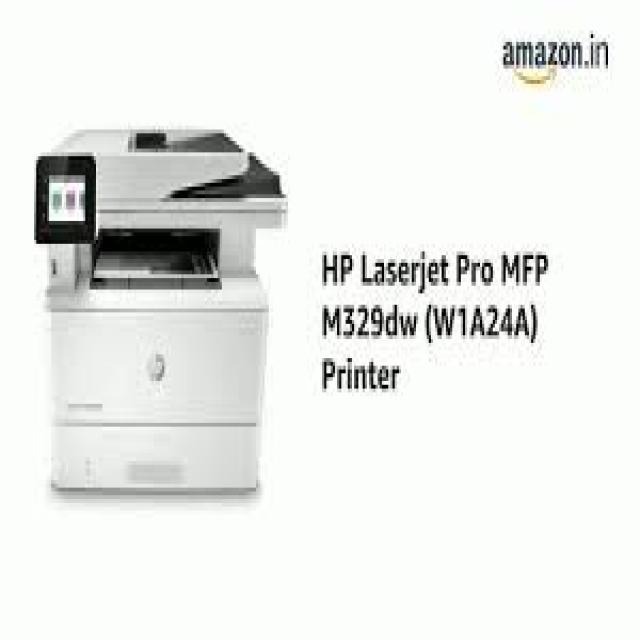printer: (32, 122, 288, 491)
